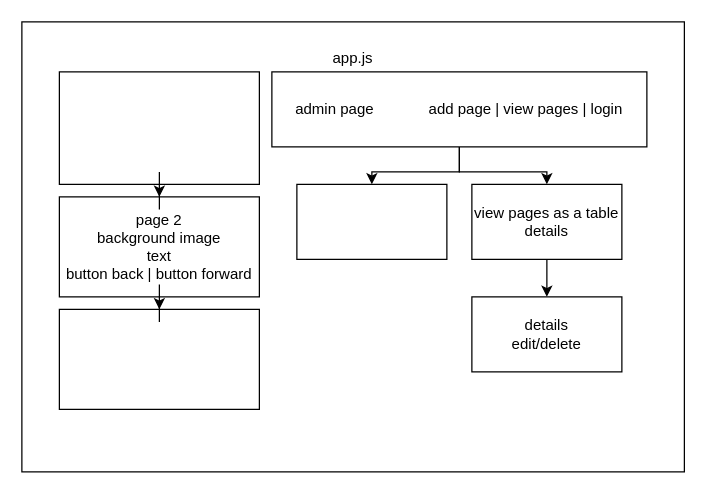
Some shapes in this 706 by 494 pixel diagram are drawn without their labels. The centre of each missing label's shape, as x and y in pixels:
"add a new page form form: upload photo text of page" goes at point 371,221.
"page 3, etc background image text button back | button forward" goes at point 158,358.
"public title page title background image text button to enter" goes at point 158,127.
